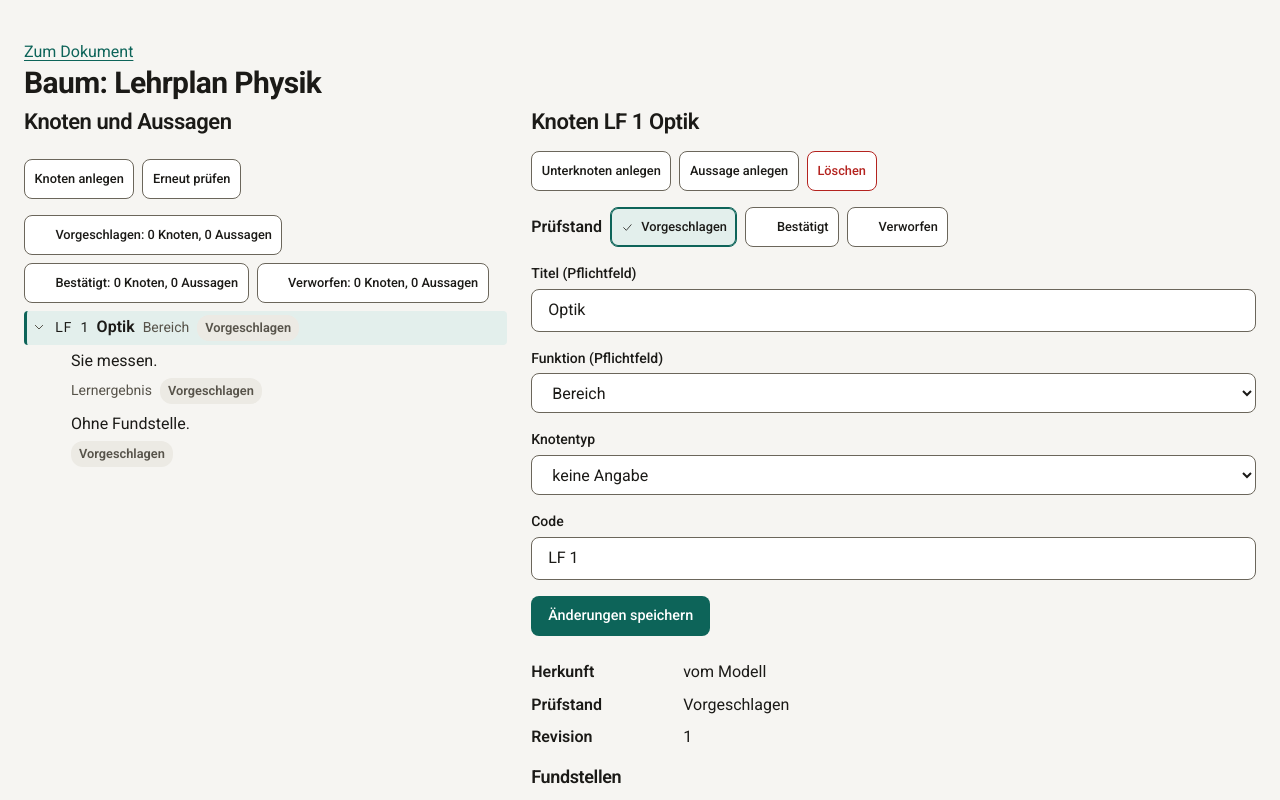
Test: a document's tree page › takes a node away once asked: it leaves the address, the panel says what went
Click the button "Löschen" at (842, 171), box top-left (807, 151), bottom-right (876, 191)
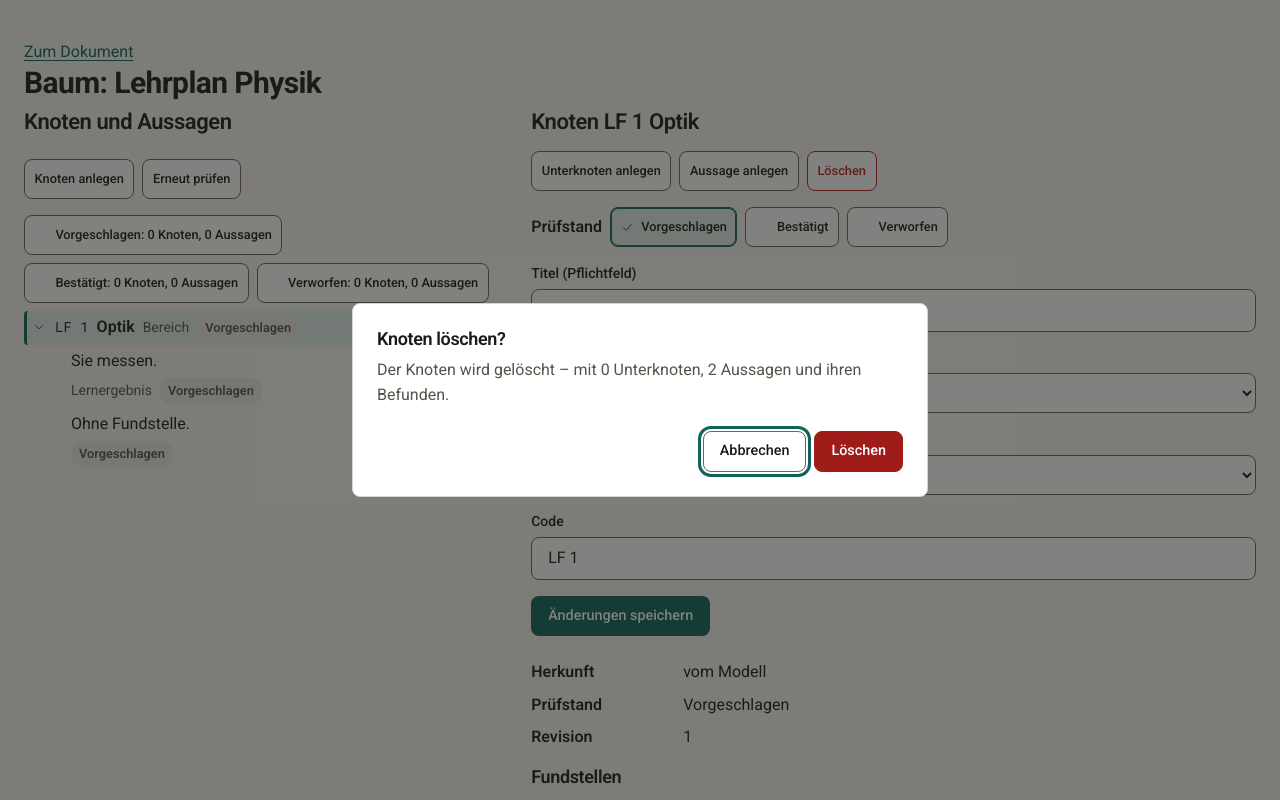
Click the 2nd button "Löschen" at (859, 452), box top-left (814, 431), bottom-right (903, 472)
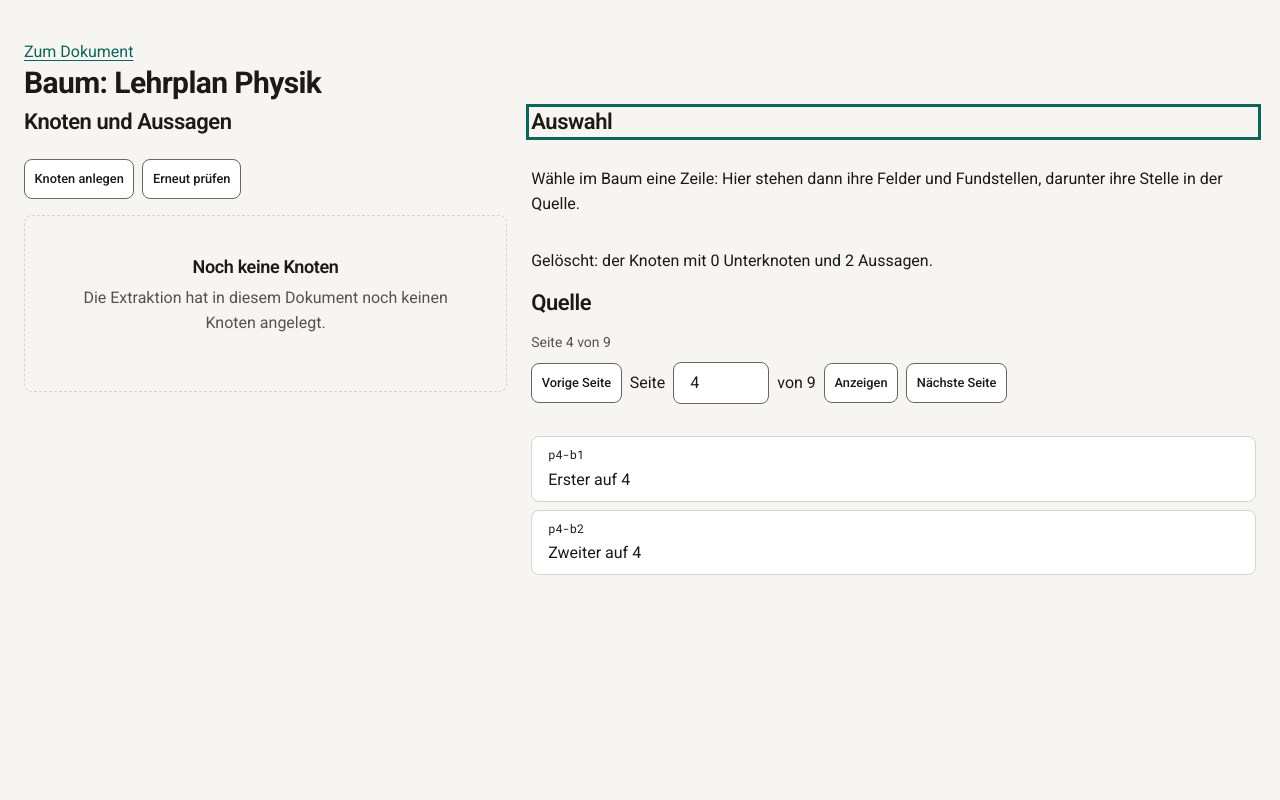
Expected: the message with class "row-panel__status" reads "Gelöscht: der Knoten mit 0 Unterknoten und 2 Aussagen.", top-left (531, 251), bottom-right (933, 270)
